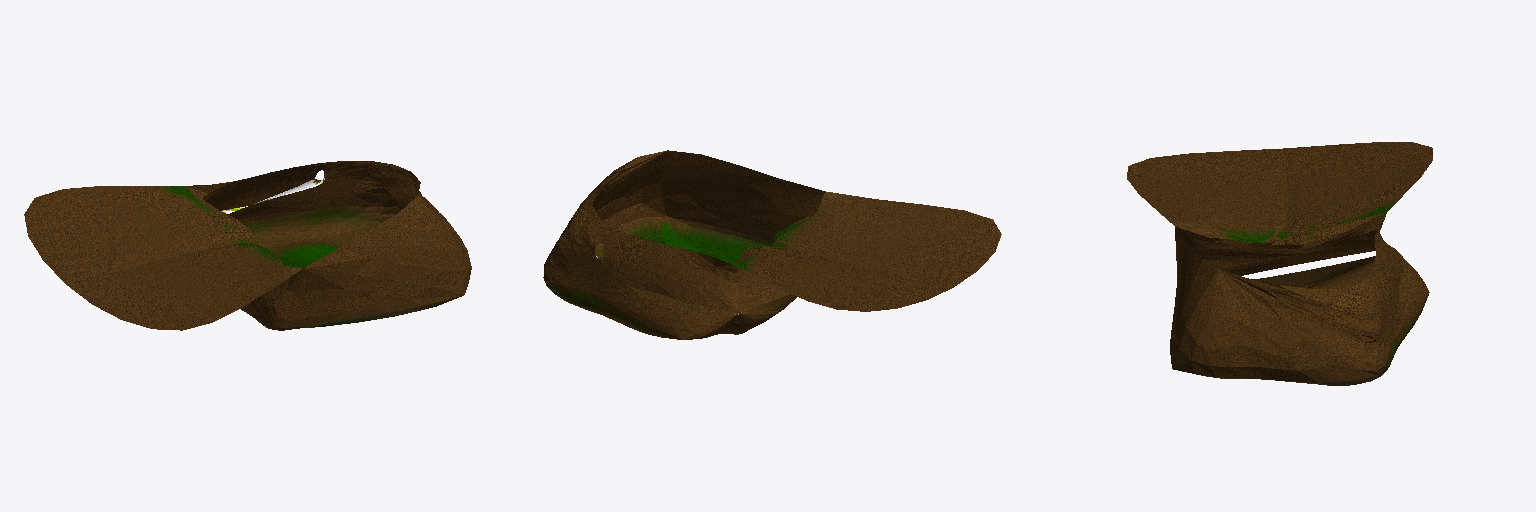
3 renders of one model, left to right at view 1: azimuth 30°, elevation 25°; view 2: azimuth 150°, elevation 25°; view 3: azimuth 270°, elevation 25°, orthographic.
Visible parts, largest first — view 1: canyon_Plane; view 2: canyon_Plane; view 3: canyon_Plane.
Part boxes in pixels (x1,y1,x2,y2): canyon_Plane: (24,161,471,330); canyon_Plane: (543,150,1001,339); canyon_Plane: (1127,142,1432,385).
Bounding box in the file's own units: 569 × 148 × 402.
Materials: 2 (1 with a texture image).